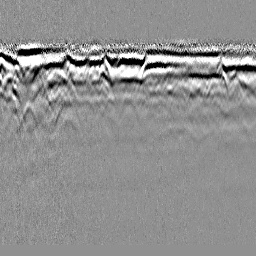cavity: (116, 91, 140, 123)
